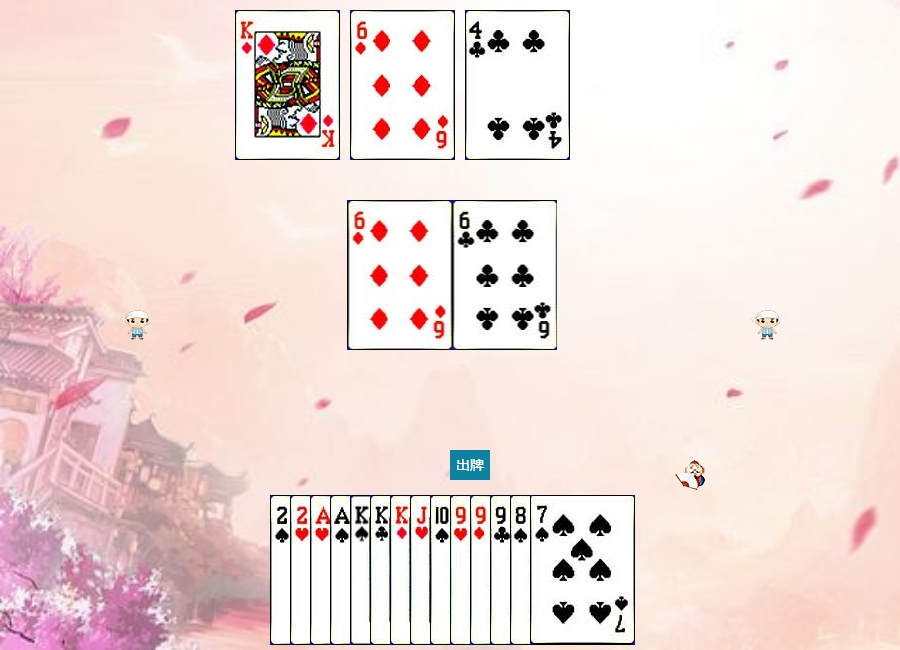10~4: (430, 495, 535, 645)
11~3: (410, 495, 515, 645)
13~1: (235, 10, 340, 160), (390, 495, 495, 645)
13~2: (370, 495, 475, 645)
13~4: (350, 495, 455, 645)
14~3: (310, 495, 415, 645)
14~4: (330, 495, 435, 645)
15~3: (290, 495, 395, 645)
15~4: (270, 495, 375, 645)
4~2: (465, 10, 570, 160)
6~1: (350, 10, 455, 160), (348, 200, 453, 350)
6~2: (453, 200, 558, 350)
7~4: (530, 495, 635, 645)
8~4: (510, 495, 615, 645)
9~1: (470, 495, 575, 645)
9~2: (490, 495, 595, 645)
9~3: (450, 495, 555, 645)
